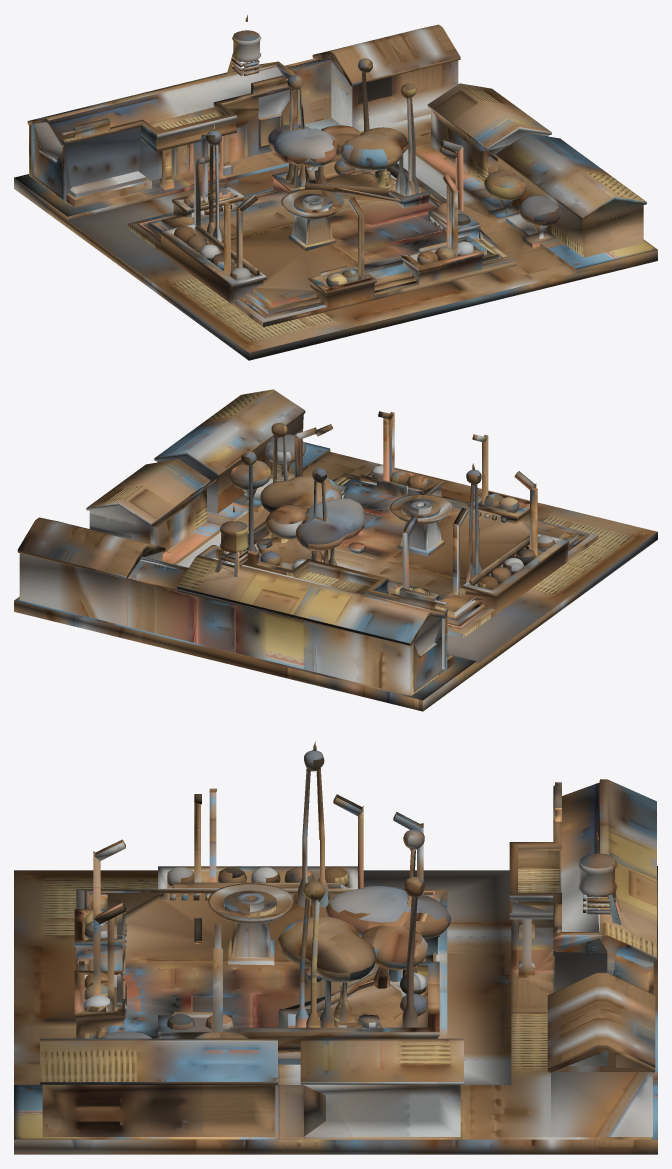
Rendered from Zona del sombrero volteao.fbx.
3 views of the same model, one above another, from view 1: azimuth 30°, elevation 25°; view 2: azimuth 150°, elevation 25°; view 3: azimuth 270°, elevation 25° (orthographic). The views are drawn at different scales.
Visible parts, largest first — view 1: mesh_rep_0_ori_repair; view 2: mesh_rep_0_ori_repair; view 3: mesh_rep_0_ori_repair.
Boxes of the visible parts, bbox=[...] form: mesh_rep_0_ori_repair: bbox=[14, 15, 657, 360]; mesh_rep_0_ori_repair: bbox=[14, 389, 657, 711]; mesh_rep_0_ori_repair: bbox=[14, 741, 657, 1154].
Bounding box in the file's own units: 4811 × 1565 × 4786.
